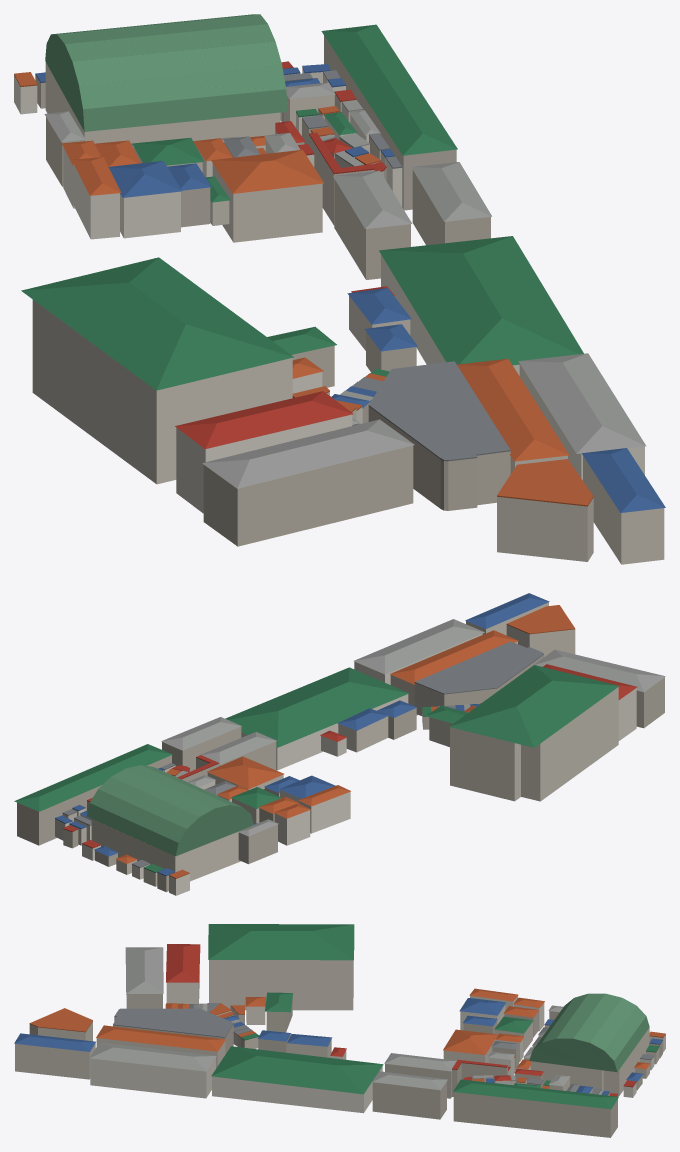
The model's file is baguio-public-market.5fc34165.glb.
The picture shows the model from 3 angles, top to bottom: view 1: azimuth 30°, elevation 25°; view 2: azimuth 150°, elevation 25°; view 3: azimuth 270°, elevation 25°; orthographic projection. The views are drawn at different scales.
Size of the model in its own units: 164 by 36.14 by 290.
10 materials, 1 textured.
